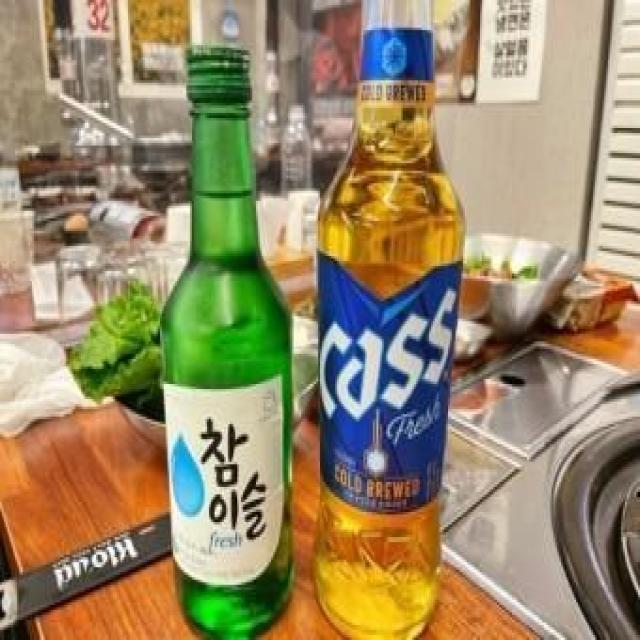beer-bottle: (319, 0, 462, 640)
soju-bottle: (165, 40, 289, 640)
